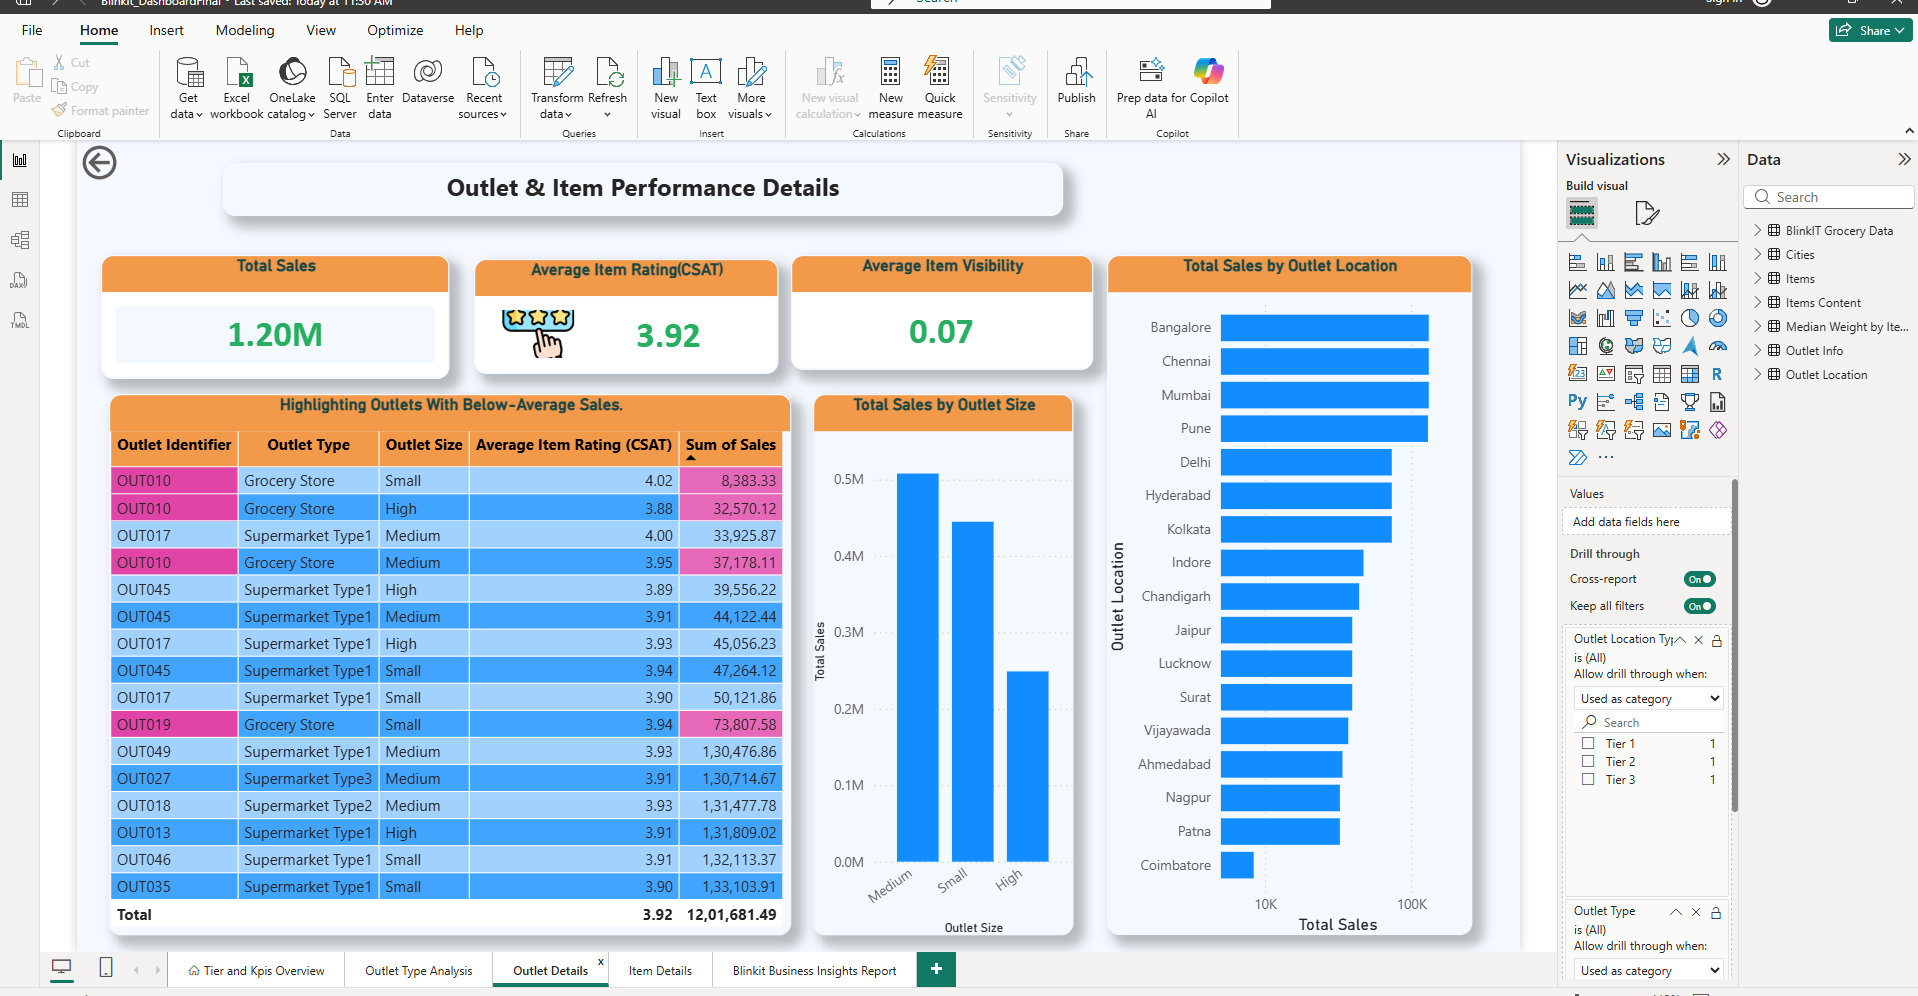

The dashboard page shown, as its layout file describes it:
{"tool":"powerbi","page":{"name":"Outlet Details","canvas":[1280,720],"ordinal":2},"visuals":[{"type":"actionButton","box":[0,0,100,40],"z":0},{"type":"textbox","box":[129.5,20,745,46.5],"z":1000},{"type":"cardVisual","title":"Total Sales","fields":{"Data":["BlinkIT Grocery Data.Total Sales"]},"box":[114,81,216.7,110],"z":3000},{"type":"cardVisual","title":"Average Item Rating(CSAT)","fields":{"Data":["BlinkIT Grocery Data.Average Item Rating (CSAT)1"]},"box":[376,85,172,102],"z":4000},{"type":"cardVisual","title":"Average Item Visibility","fields":{"Data":["Avg(BlinkIT Grocery Data.Item Visibility)1"]},"box":[589,85,173.3,102.2],"z":5000},{"type":"columnChart","fields":{"Y":["BlinkIT Grocery Data.Total Sales"],"Category":["Outlet Info.Outlet Size"]},"box":[653,212,231,375],"z":6000},{"type":"barChart","fields":{"Category":["Cities.Outlet Location"],"Y":["BlinkIT Grocery Data.Total Sales"]},"box":[913,81,324,578],"z":7000},{"type":"tableEx","title":"Highlighting Outlets With Below-Average Sales.","fields":{"Values":["Outlet Info.Outlet Identifier","Outlet Info.Outlet Type","Outlet Info.Outlet Size","BlinkIT Grocery Data.Average Item Rating (CSAT)","Sum(BlinkIT Grocery Data.Sales)"]},"box":[28,225,605,480],"z":8000}]}

Visuals, with their boxes on the page's 1280x720 design canvas (x1, y1, x2, y2). These are canvas units, not pixel positions in the 1918x996 screenshot, which may show the page scaled, cropped or inside an application window:
actionButton: (0, 0, 100, 40)
textbox: (130, 20, 874, 66)
"Total Sales" cardVisual: (114, 81, 331, 191)
"Average Item Rating(CSAT)" cardVisual: (376, 85, 548, 187)
"Average Item Visibility" cardVisual: (589, 85, 762, 187)
columnChart - BlinkIT Grocery Data.Total Sales x Outlet Info.Outlet Size: (653, 212, 884, 587)
barChart - Cities.Outlet Location x BlinkIT Grocery Data.Total Sales: (913, 81, 1237, 659)
"Highlighting Outlets With Below-Average Sales." tableEx: (28, 225, 633, 705)
